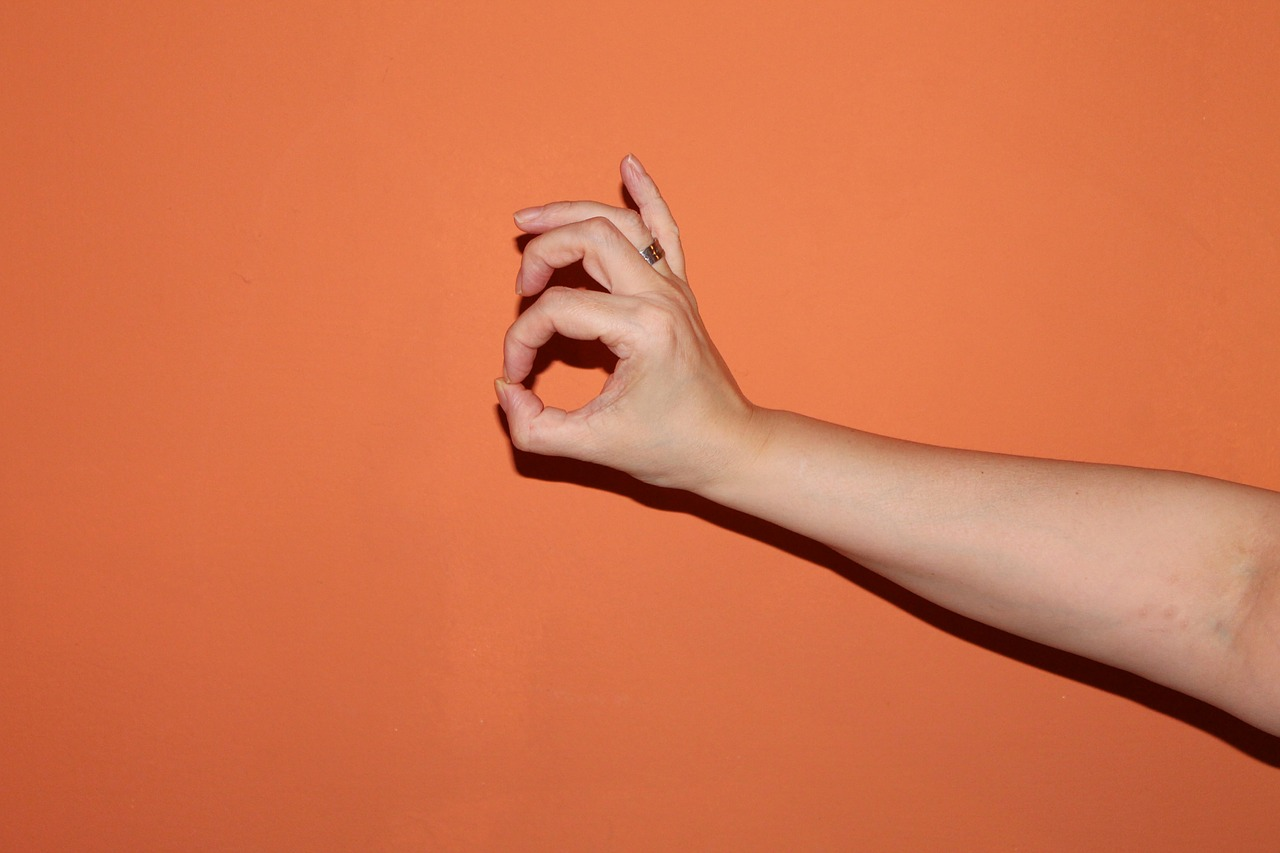oksign: (477, 209, 711, 493)
